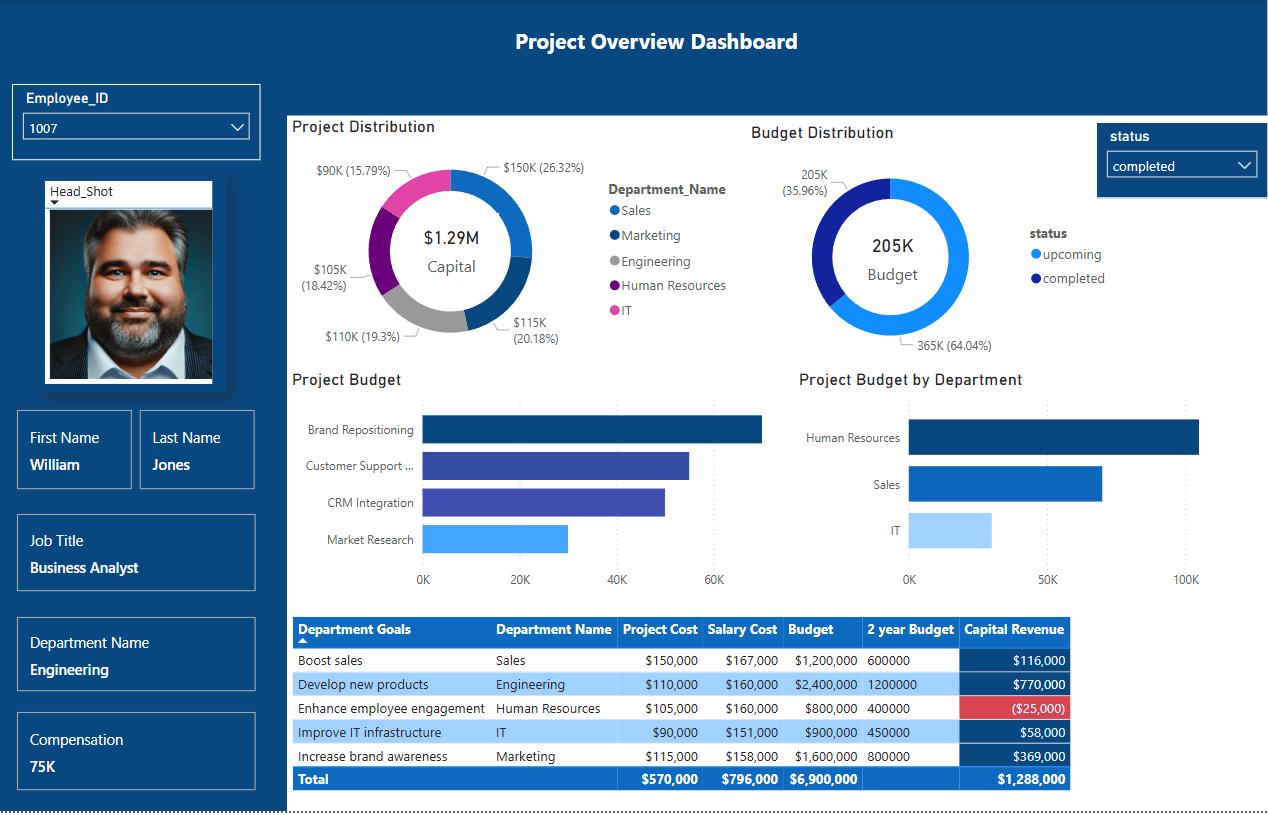

What the dashboard file says about the page in this screenshot:
{"tool":"powerbi","page":{"name":"Page 1","canvas":[1280,820],"ordinal":0},"visuals":[{"type":"shape","box":[0,0,289.8,820],"z":0},{"type":"shape","box":[289.8,0,990.2,117.7],"z":1000},{"type":"tableEx","fields":{"Values":["Head_Shots.Head_Shot"]},"box":[39.4,178.7,189.9,218.1],"z":2000},{"type":"slicer","fields":{"Values":["Head_Shots.Employee_ID"]},"box":[12.4,85.7,251.5,76.7],"z":3000},{"type":"cardVisual","fields":{"Data":["Min(Query1.first_name)","Min(Query1.last_name)"]},"box":[12.1,410,251.5,90.9],"z":4000},{"type":"cardVisual","fields":{"Data":["Min(Query1.job_title)"]},"box":[12.1,515,251.5,88.9],"z":5000},{"type":"cardVisual","fields":{"Data":["Min(Query1.Department_Name)"]},"box":[12.1,619,251.5,85.8],"z":6000},{"type":"donutChart","title":"Project Distribution","fields":{"Category":["Cost Table.Department_Name"],"Y":["Sum(Cost Table.Project Cost)"]},"box":[289.8,118.2,463.5,254.5],"z":7000},{"type":"cardVisual","fields":{"Data":["Sum(Query1.salary)"]},"box":[12.1,715,251.5,89.9],"z":8000},{"type":"card","fields":{"Values":["Sum(Cost Table.Capital Revenue)"]},"box":[408.2,216.5,95.9,71],"z":9000},{"type":"tableEx","fields":{"Values":["Cost Table.Department_Goals","Cost Table.Department_Name","Sum(Cost Table.Project Cost)","Sum(Cost Table.salary cost)","Sum(Cost Table.Budget)","Cost Table.2 year Budget","Sum(Cost Table.Capital Revenue)"]},"box":[289.8,619.1,840.2,186.1],"z":10000},{"type":"donutChart","title":"Budget Distribution","fields":{"Category":["Query1.status"],"Y":["Sum(Query1.project_budget)"]},"box":[753.3,124.1,376.7,253.7],"z":11000},{"type":"card","fields":{"Values":["Sum(Query1.project_budget)"]},"box":[857.1,224.4,88,71],"z":12000},{"type":"barChart","title":"Project Budget","fields":{"Category":["Query1.project_name"],"Y":["Sum(Query1.project_budget)"]},"box":[289.8,373.3,495.1,231.2],"z":13000},{"type":"barChart","title":"Project Budget by Department","fields":{"Category":["Query1.Department_Name"],"Y":["Sum(Query1.project_budget)"]},"box":[801.8,373.3,470.3,231.2],"z":14000},{"type":"slicer","fields":{"Values":["Query1.status"]},"box":[1106.3,124.1,173.7,76.7],"z":14001},{"type":"textbox","box":[196.2,22.6,933.8,63.2],"z":14002}]}

Visuals, with their boxes in screenshot pixels (x1, y1, x2, y2), scaled from the page's 1280x820 canvas onto the 1268x815 screenshot:
shape: <region>0, 0, 287, 814</region>
shape: <region>287, 0, 1267, 117</region>
tableEx - Head_Shots.Head_Shot: <region>39, 178, 227, 394</region>
slicer - Head_Shots.Employee_ID: <region>12, 85, 261, 161</region>
cardVisual - Min(Query1.first_name) x Min(Query1.last_name): <region>12, 408, 261, 498</region>
cardVisual - Min(Query1.job_title): <region>12, 512, 261, 600</region>
cardVisual - Min(Query1.Department_Name): <region>12, 615, 261, 701</region>
"Project Distribution" donutChart: <region>287, 117, 746, 370</region>
cardVisual - Sum(Query1.salary): <region>12, 711, 261, 800</region>
card - Sum(Cost Table.Capital Revenue): <region>404, 215, 499, 286</region>
tableEx - Cost Table.Department_Goals x Cost Table.Department_Name: <region>287, 615, 1119, 800</region>
"Budget Distribution" donutChart: <region>746, 123, 1119, 375</region>
card - Sum(Query1.project_budget): <region>849, 223, 936, 294</region>
"Project Budget" barChart: <region>287, 371, 778, 601</region>
"Project Budget by Department" barChart: <region>794, 371, 1260, 601</region>
slicer - Query1.status: <region>1096, 123, 1267, 200</region>
textbox: <region>194, 22, 1119, 85</region>
